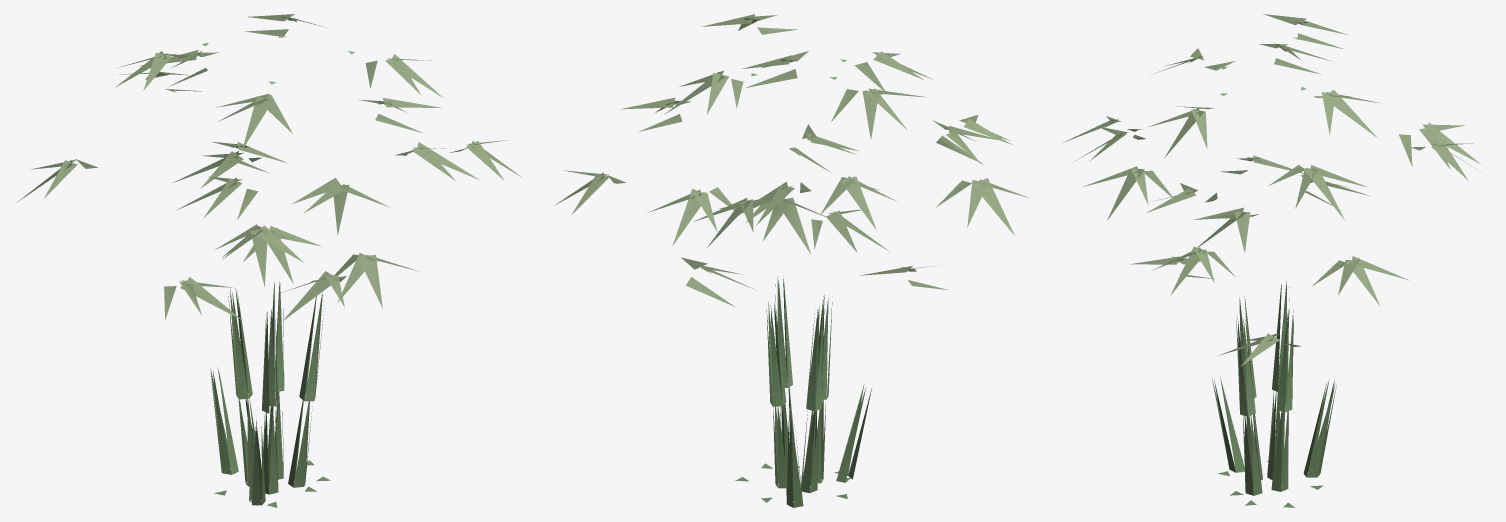
Rendered from bamboo.lod.glb.
3 views of the same model, side by side, from view 1: azimuth 30°, elevation 25°; view 2: azimuth 150°, elevation 25°; view 3: azimuth 270°, elevation 25° (orthographic). The views are drawn at different scales.
Visible parts, largest first — view 1: bamboo; view 2: bamboo; view 3: bamboo.
Boxes of the visible parts, x1,y1,x2,y2 form: bamboo: (16,14,521,507); bamboo: (554,14,1029,507); bamboo: (1062,14,1480,507).
Bounding box in the file's own units: 7.69 × 7.16 × 6.64.
